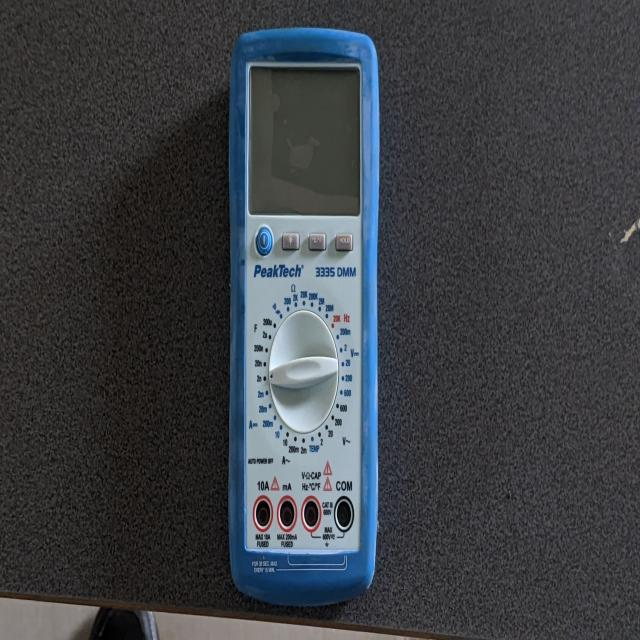Digital Multimeter: (221, 22, 391, 610)
